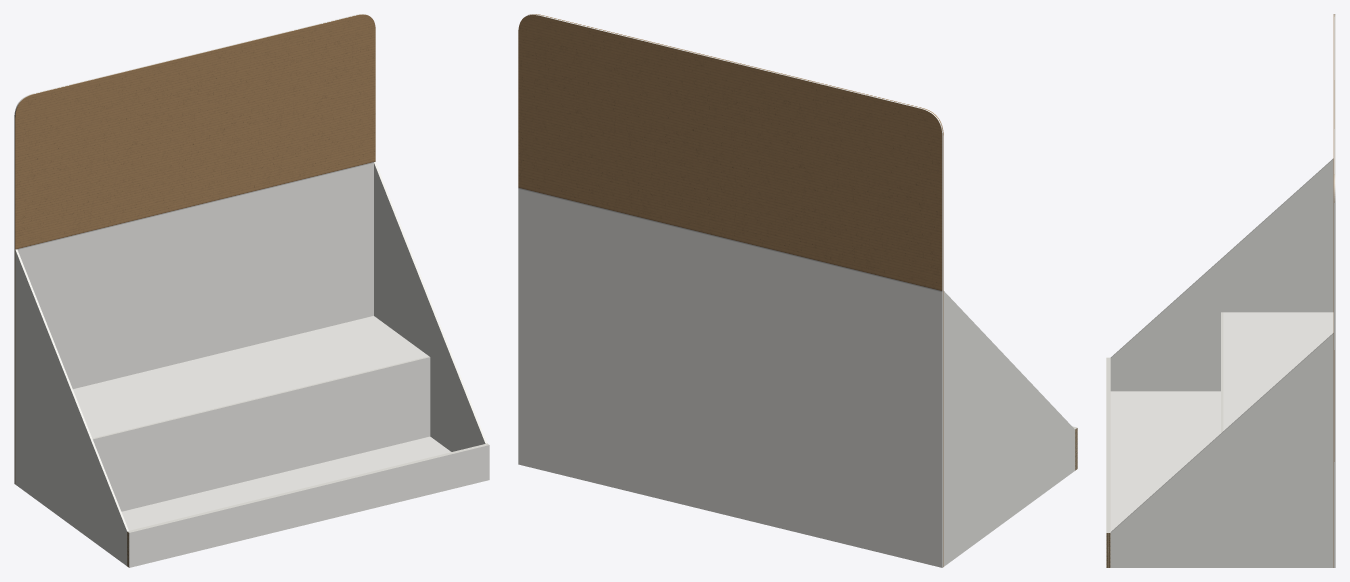
The model's file is PLV_OP_NISHA_2026_Comptoir.glb.
The picture shows the model from 3 angles, left to right: view 1: azimuth 30°, elevation 25°; view 2: azimuth 150°, elevation 25°; view 3: azimuth 270°, elevation 25°; orthographic projection. The views are drawn at different scales.
Size of the model in its own units: 0.57 by 0.583 by 0.315.
5 materials, 3 textured.
